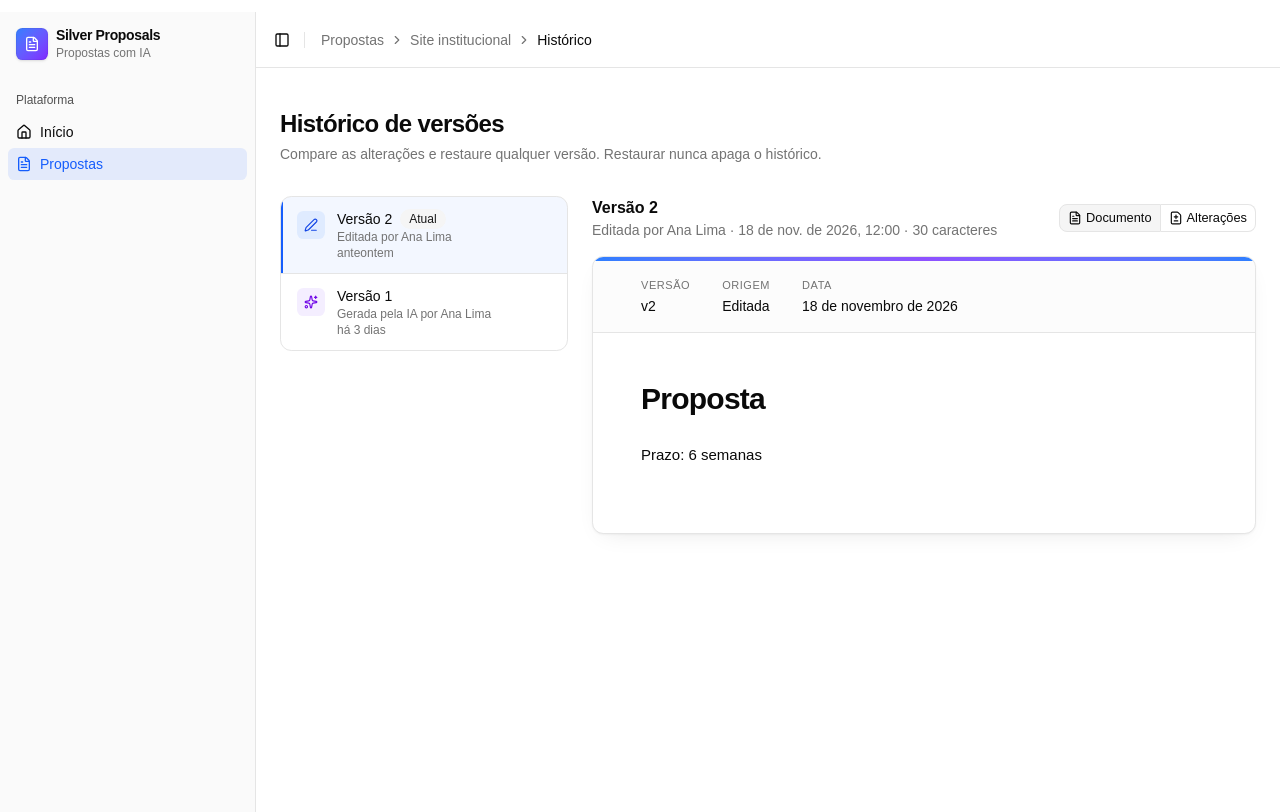
Test case: ProposalHistoryPage › shows what changed compared with the previous version
Click the button "Alterações": (1208, 218) 1160,204 -> 1256,232
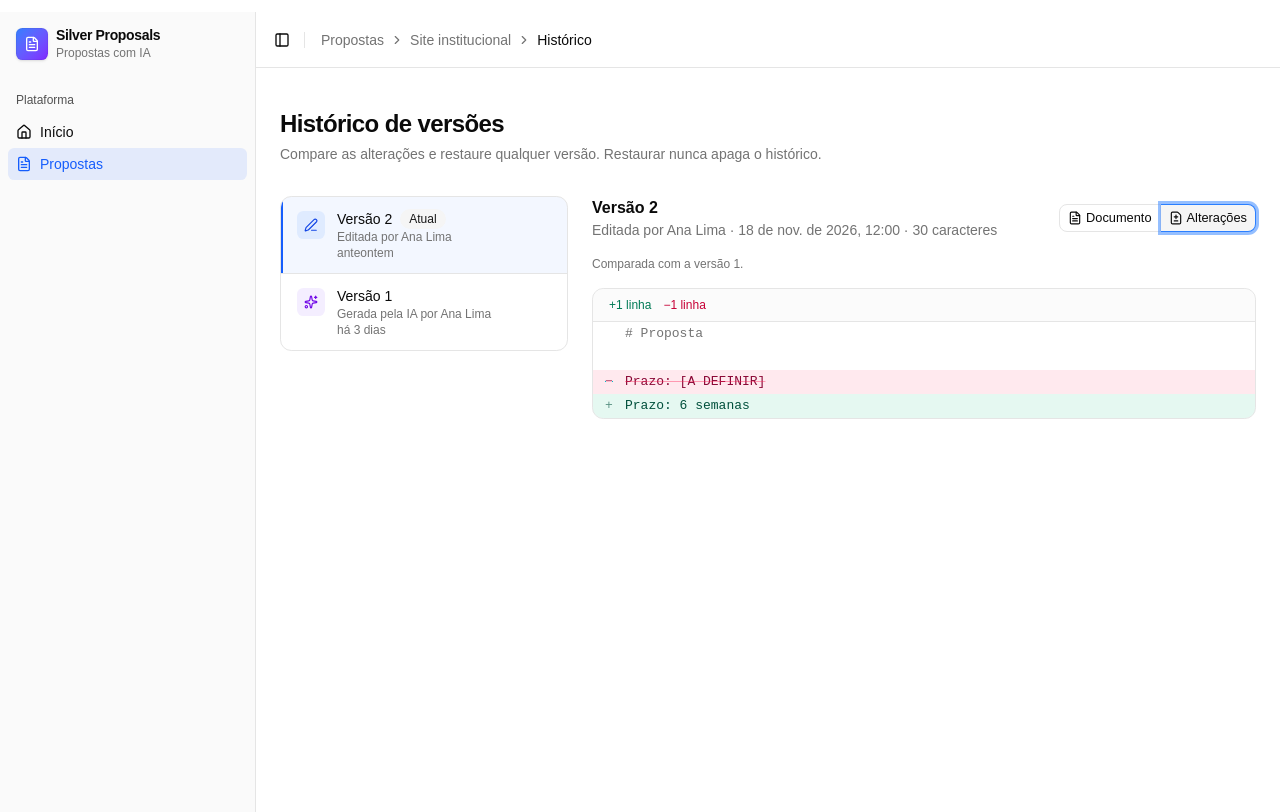
Now the text "Comparada com a versão 1." is shown, box 592,257 -> 743,271
